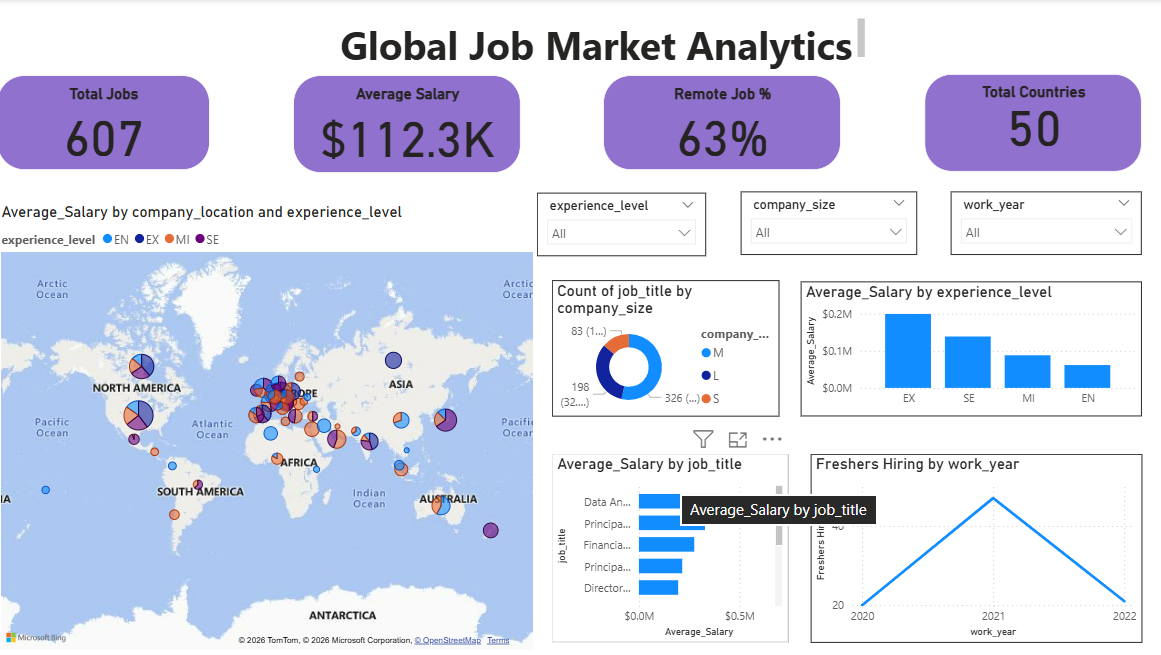

The page's visual inventory and layout, read from the dashboard file:
{"tool":"powerbi","page":{"name":"Page 1","canvas":[1280,720],"ordinal":0},"visuals":[{"type":"card","title":"Total Jobs","fields":{"Values":["Cleaned_job_Market.Total Jobs"]},"box":[0,83.7,233.3,104.3],"z":0},{"type":"card","title":"Average Salary","fields":{"Values":["Cleaned_job_Market.Average_Salary"]},"box":[324.8,83.7,249.7,107],"z":1000},{"type":"card","title":"Total Countries","fields":{"Values":["Cleaned_job_Market.Total Countries"]},"box":[1018.2,82.3,238.8,107],"z":2000},{"type":"card","title":"Remote Job %","fields":{"Values":["Cleaned_job_Market.Remote jobs%"]},"box":[666,83.7,260.7,104.3],"z":4000},{"type":"clusteredColumnChart","fields":{"Category":["Cleaned_job_Market.experience_level"],"Y":["Cleaned_job_Market.Average_Salary"]},"box":[882.3,310.1,374.6,148.2],"z":5000},{"type":"clusteredBarChart","fields":{"Category":["Cleaned_job_Market.job_title"],"Y":["Cleaned_job_Market.Average_Salary"]},"box":[609.3,499.5,259.3,207.2],"z":6000},{"type":"donutChart","fields":{"Category":["Cleaned_job_Market.company_size"],"Y":["CountNonNull(Cleaned_job_Market.job_title)"]},"box":[609.3,308.7,249.7,149.6],"z":7000},{"type":"lineChart","fields":{"Y":["Cleaned_job_Market.Freshers Hiring"],"Category":["Cleaned_job_Market.work_year"]},"box":[893.3,499.5,363.6,207.2],"z":8000},{"type":"map","fields":{"Category":["Cleaned_job_Market.company_location"],"Size":["Cleaned_job_Market.Average_Salary"],"Series":["Cleaned_job_Market.experience_level"]},"box":[0,223.7,592.8,496.7],"z":8001},{"type":"slicer","fields":{"Values":["Cleaned_job_Market.experience_level"]},"box":[592.8,212.7,185.2,70],"z":8002},{"type":"slicer","fields":{"Values":["Cleaned_job_Market.work_year"]},"box":[1047,211.3,209.9,70],"z":8003},{"type":"slicer","fields":{"Values":["Cleaned_job_Market.company_size"]},"box":[815.8,211.3,193.5,70],"z":8004},{"type":"textbox","box":[371.9,16.5,585.9,65.9],"z":8005}]}

Visuals, with their boxes in screenshot pixels (x1, y1, x2, y2), scaled from the page's 1280x720 canvas onto the 1161x655 screenshot:
"Total Jobs" card: 0 76 212 171
"Average Salary" card: 295 76 521 173
"Total Countries" card: 924 75 1140 172
"Remote Job %" card: 604 76 841 171
clusteredColumnChart - Cleaned_job_Market.experience_level x Cleaned_job_Market.Average_Salary: 800 282 1140 417
clusteredBarChart - Cleaned_job_Market.job_title x Cleaned_job_Market.Average_Salary: 553 454 788 643
donutChart - Cleaned_job_Market.company_size x CountNonNull(Cleaned_job_Market.job_title): 553 281 779 417
lineChart - Cleaned_job_Market.Freshers Hiring x Cleaned_job_Market.work_year: 810 454 1140 643
map - Cleaned_job_Market.company_location x Cleaned_job_Market.Average_Salary: 0 204 538 654
slicer - Cleaned_job_Market.experience_level: 538 193 706 257
slicer - Cleaned_job_Market.work_year: 950 192 1140 256
slicer - Cleaned_job_Market.company_size: 740 192 915 256
textbox: 337 15 869 75
